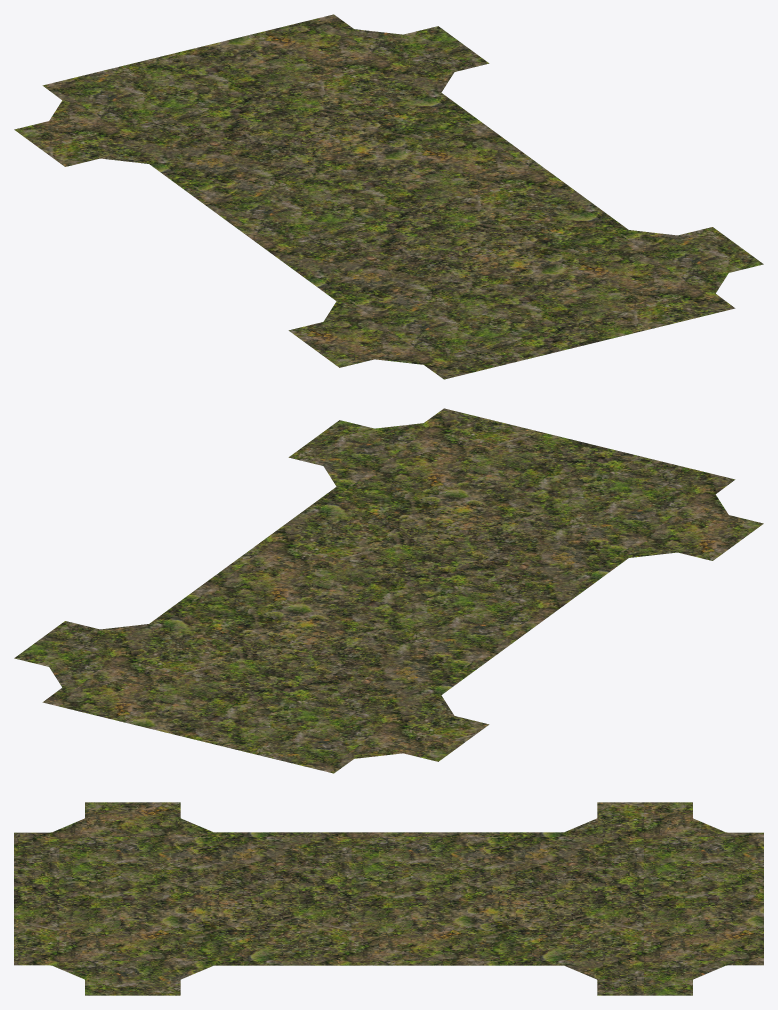
The model's file is Planter_DirtPlane_Unique07.FBX.
3 views of the same model, one above another, from view 1: azimuth 30°, elevation 25°; view 2: azimuth 150°, elevation 25°; view 3: azimuth 270°, elevation 25° (orthographic). The views are drawn at different scales.
Visible parts, largest first — view 1: Planter_DirtPlane_Unique07; view 2: Planter_DirtPlane_Unique07; view 3: Planter_DirtPlane_Unique07.
Boxes of the visible parts, x1=… form: Planter_DirtPlane_Unique07: x1=14, y1=14, x2=763, y2=379; Planter_DirtPlane_Unique07: x1=14, y1=408, x2=763, y2=773; Planter_DirtPlane_Unique07: x1=14, y1=802, x2=763, y2=995.
Bounding box in the file's own units: 6.26 × 2.91e-15 × 10.27.
